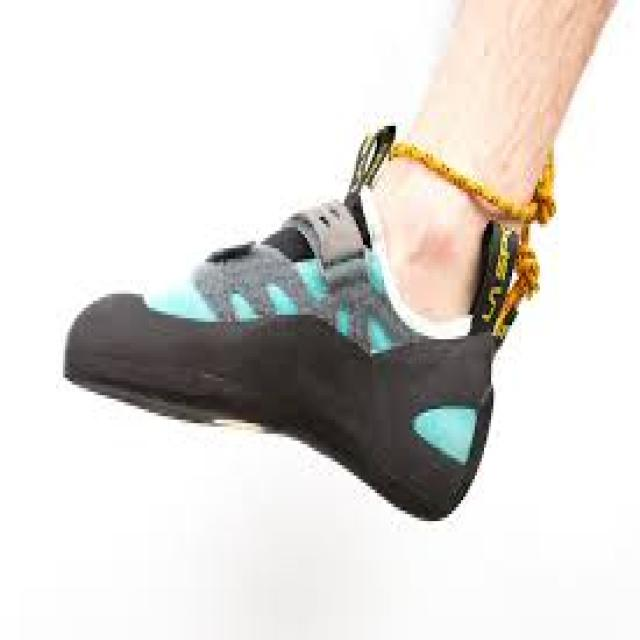climbing-shoes: (64, 125, 518, 523)
